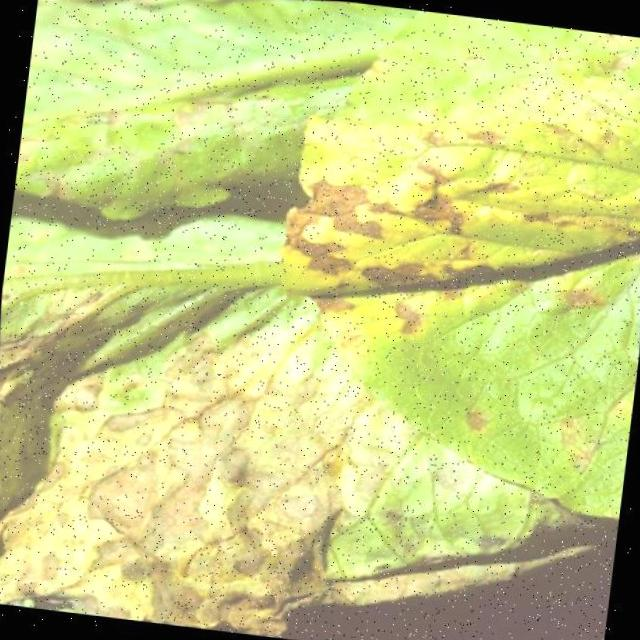Septoria_Blight: (261, 32, 640, 405), (0, 308, 297, 636)
